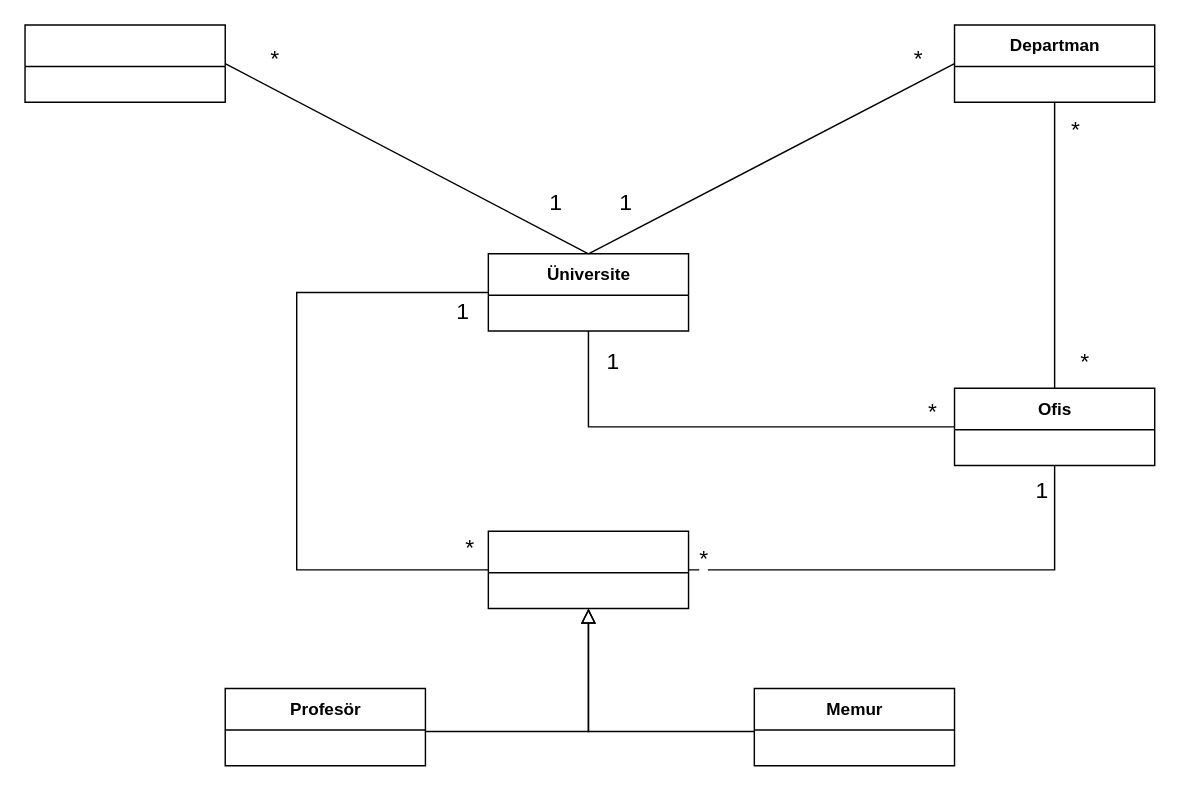
This 1180x791 diagram has some shape labels left out. Here are the shapes that lost their labels. From the top down, the centre of each, then its label:
point 124,63: Sınıf
point 588,569: Çalışanlar
